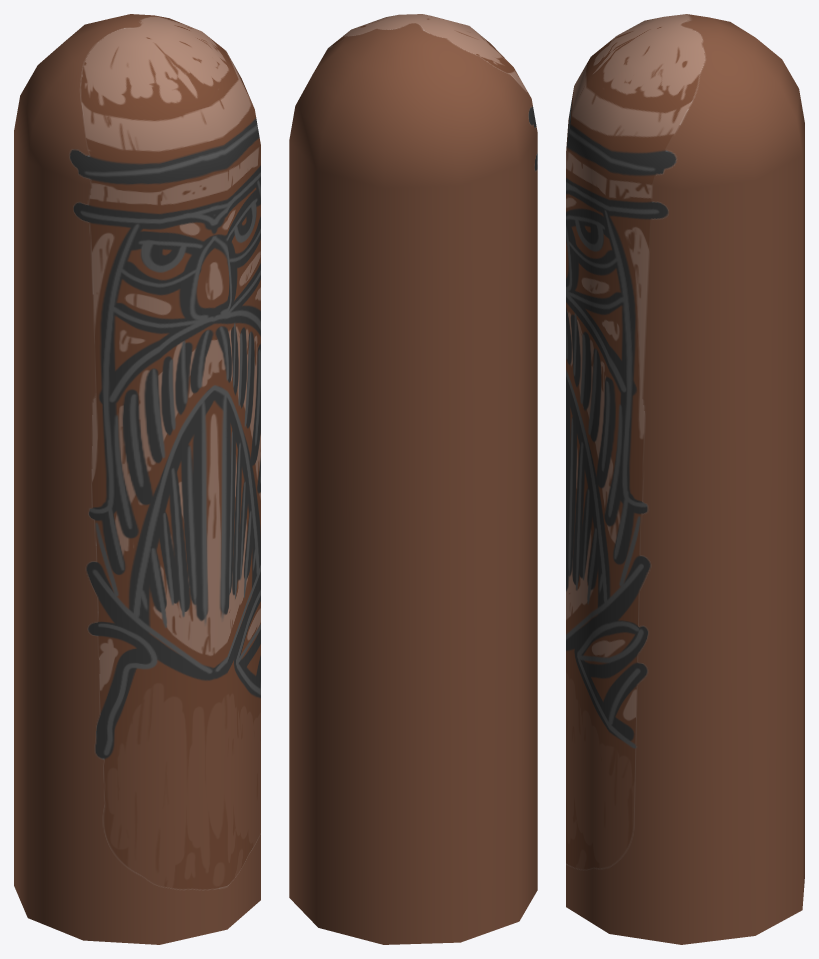
File: Totem_v1.fbx
3 renders of one model, left to right at view 1: azimuth 30°, elevation 25°; view 2: azimuth 150°, elevation 25°; view 3: azimuth 270°, elevation 25°, orthographic.
Parts seen in each view (by area): view 1: Totem_var1; view 2: Totem_var1; view 3: Totem_var1.
Boxes of the visible parts, x1,y1,x2,y2 form: Totem_var1: (14, 14, 260, 944); Totem_var1: (289, 14, 537, 944); Totem_var1: (566, 14, 804, 944).
Size of the model in its own units: 51.44 by 198 by 49.42.
Materials: 1 (1 with a texture image).
